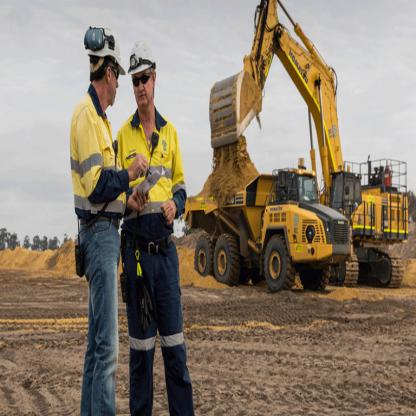dump_truck: (184, 161, 350, 310)
excavator: (206, 0, 416, 296)
person: (59, 4, 129, 412), (129, 32, 200, 415)
